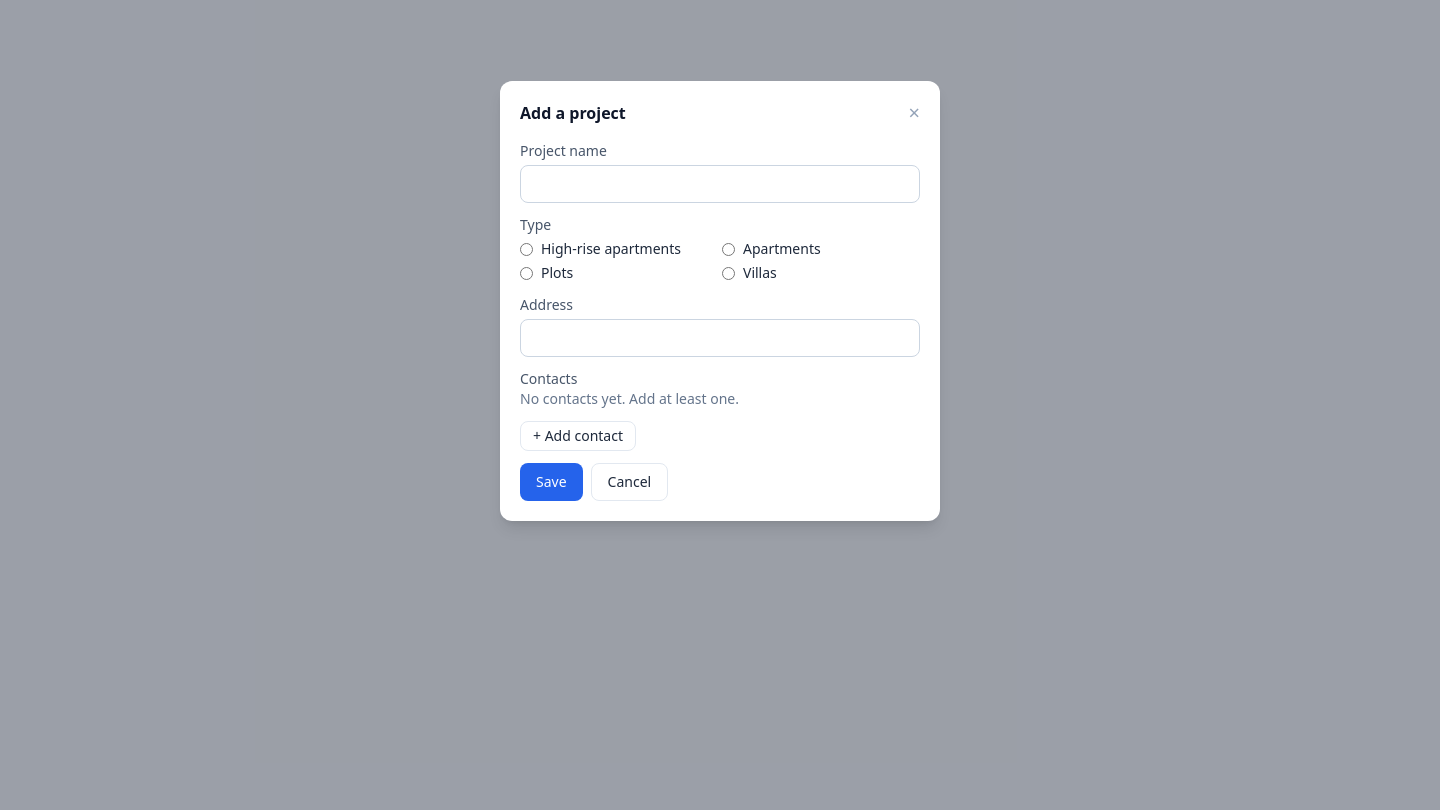
Test case: ProjectForm › refuses to save without a contact
Type "P" into the field labelled "Project name" at (720, 184), box x1=520 y1=165 x2=920 y2=203
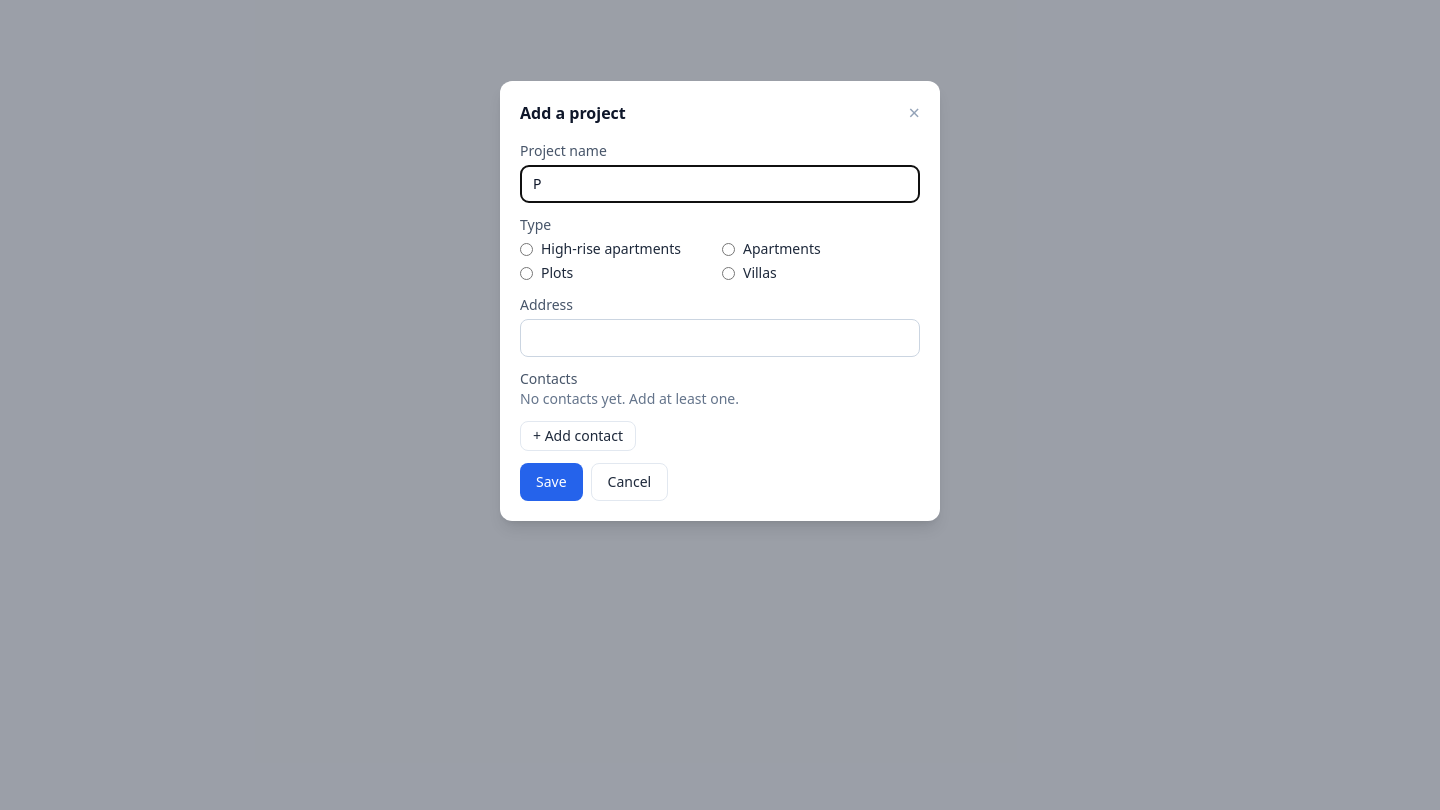
Click the radio button labelled "Villas" at (728, 273), box x1=722 y1=266 x2=735 y2=280
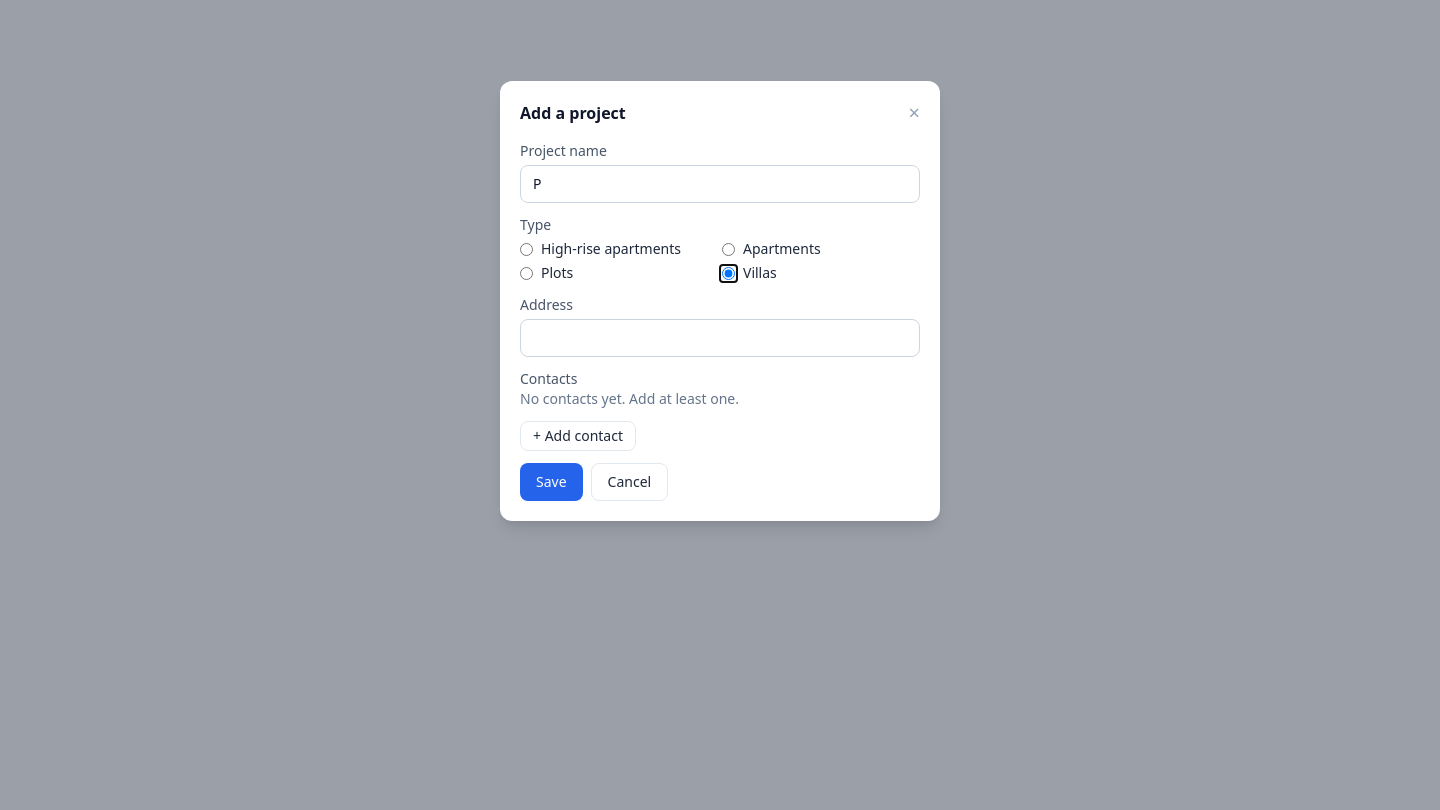
Type "Road" into the field labelled "Address" at (720, 338), box x1=520 y1=319 x2=920 y2=357
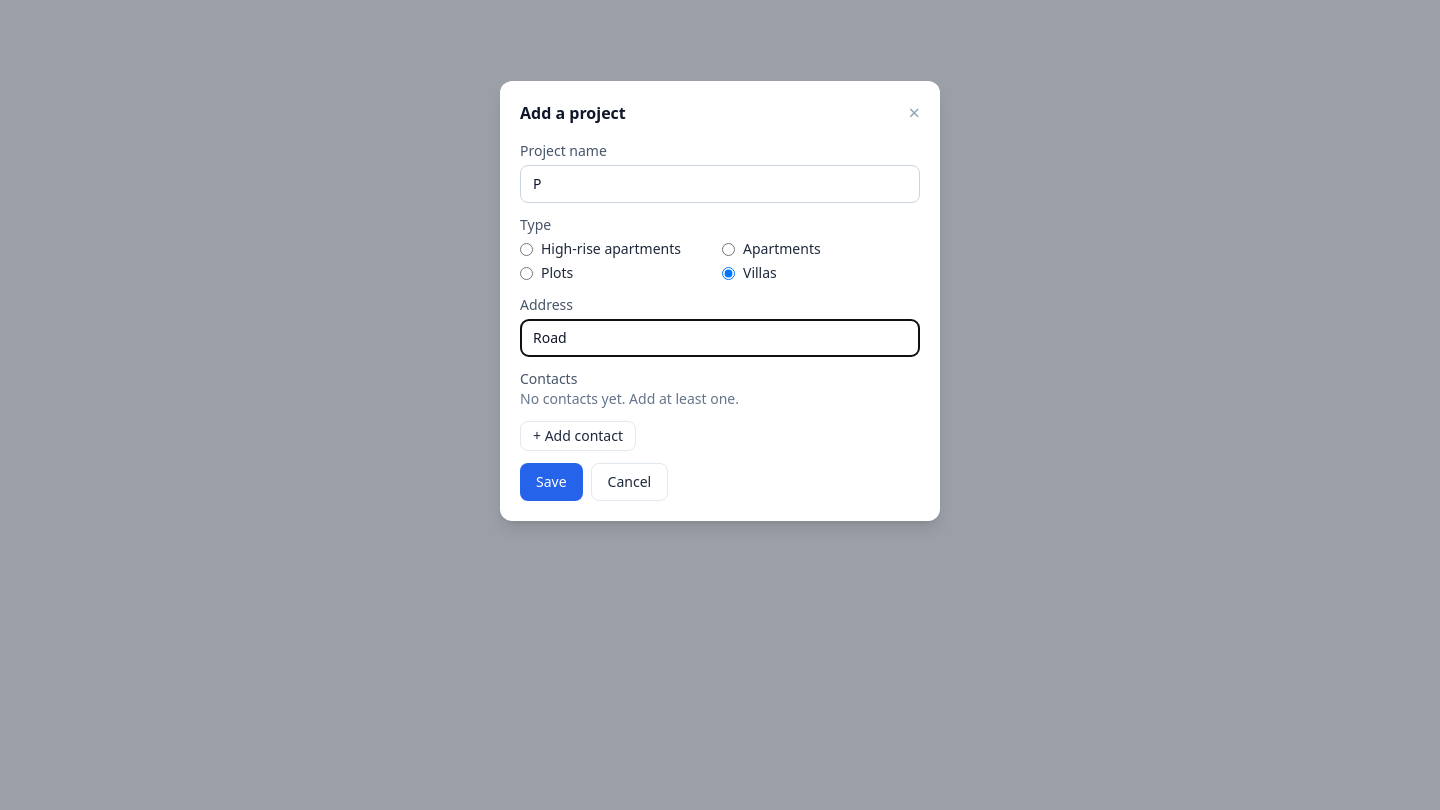
Click the button "Save" at (551, 482), box x1=520 y1=463 x2=583 y2=501
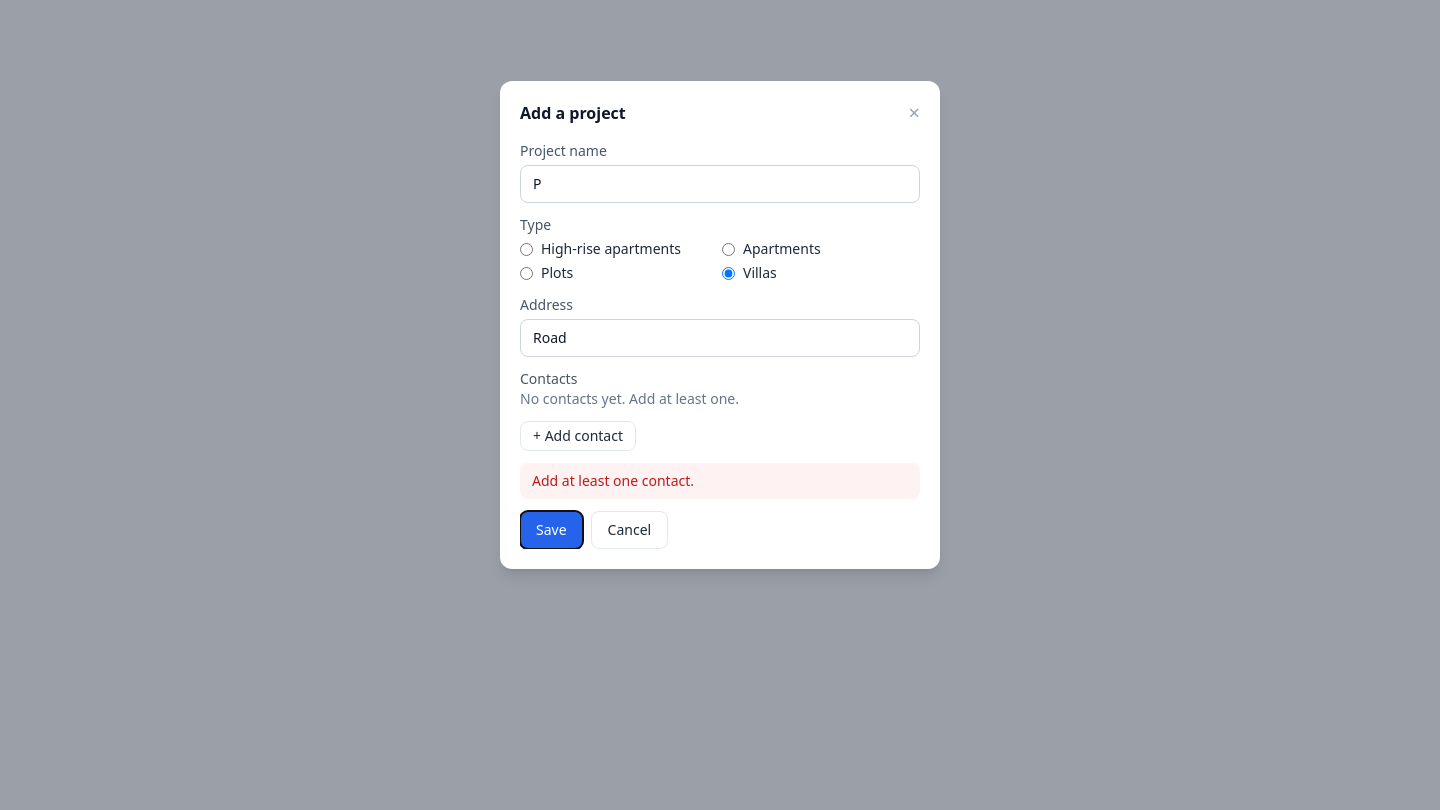
Now the message reads "Add at least one contact.", box x1=532 y1=471 x2=694 y2=490
